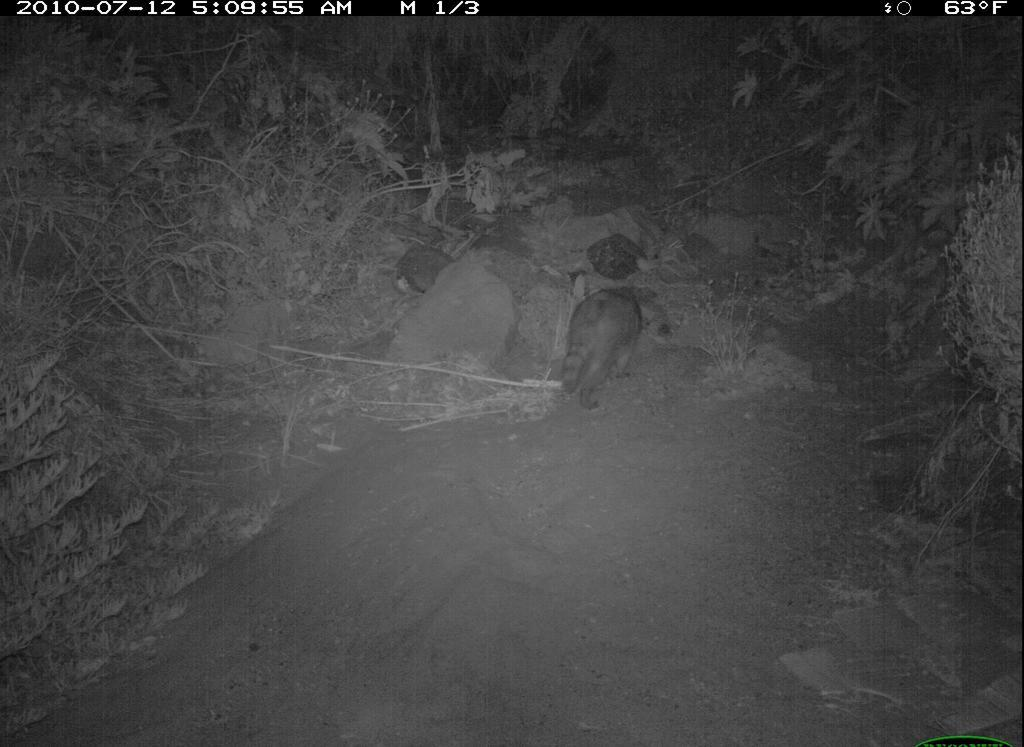raccoon: (551, 274, 666, 422)
